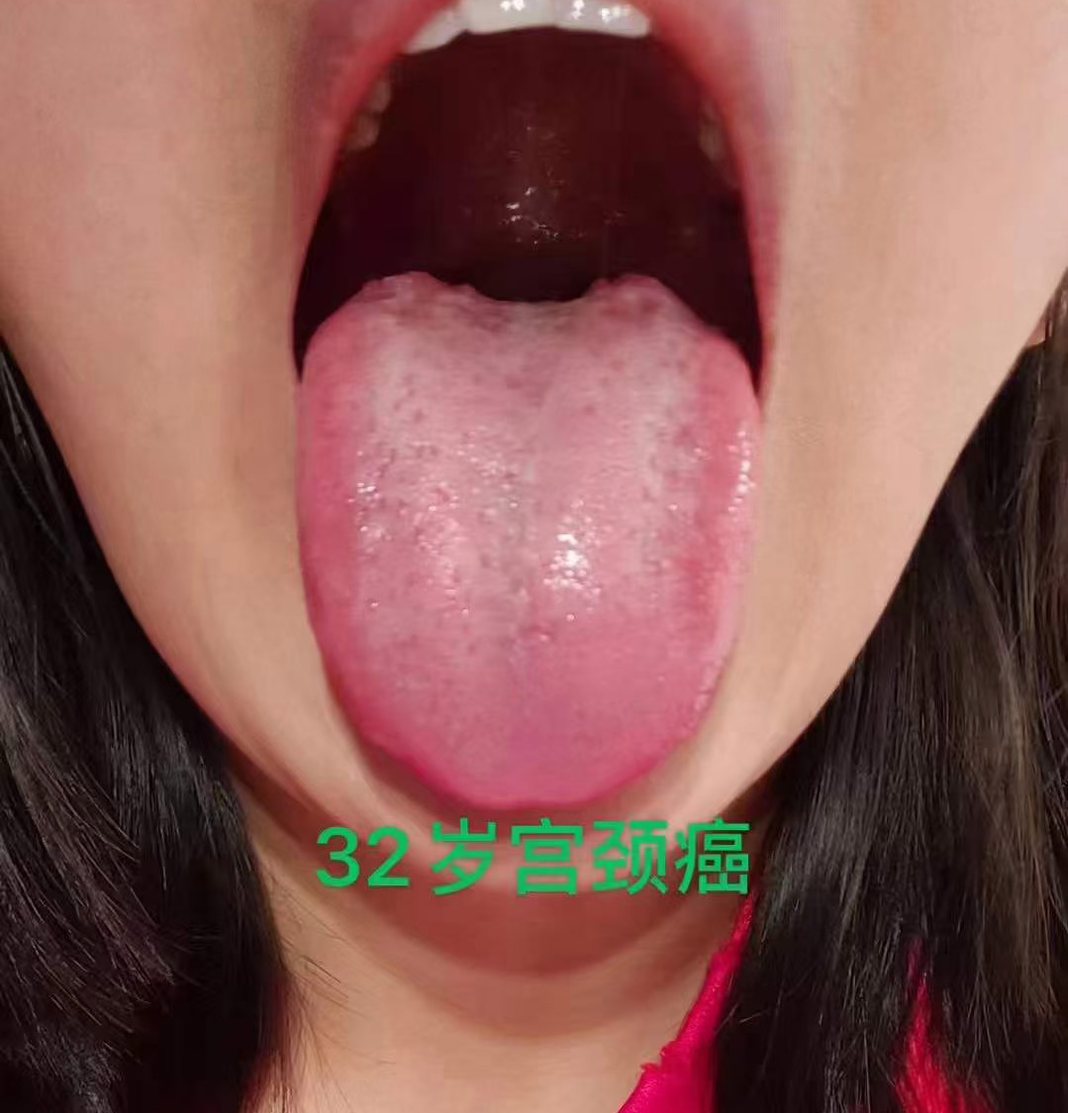baitaishe: (297, 273, 765, 810)
hongshe: (296, 272, 764, 809)
